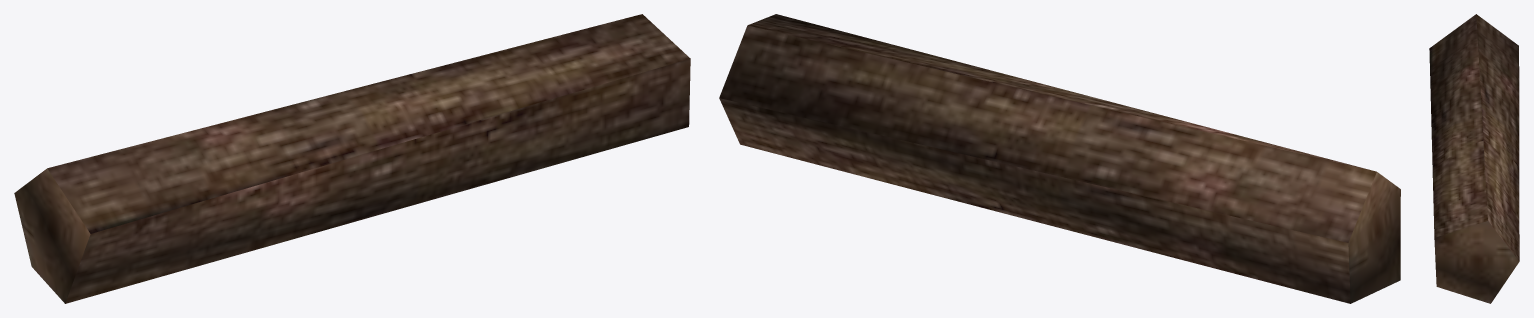
File: NC_LOB_LOG1.glb
The picture shows the model from 3 angles, left to right: view 1: azimuth 30°, elevation 25°; view 2: azimuth 150°, elevation 25°; view 3: azimuth 270°, elevation 25°; orthographic projection. The views are drawn at different scales.
Parts seen in each view (by area): view 1: Mesh; view 2: Mesh; view 3: Mesh.
Part boxes in pixels (<box>): Mesh: <box>14,14,690,303</box>; Mesh: <box>719,14,1400,303</box>; Mesh: <box>1429,14,1519,303</box>.
Size of the model in its own units: 1.61 by 0.3022 by 0.2895.
Materials: 2 (2 with a texture image).
